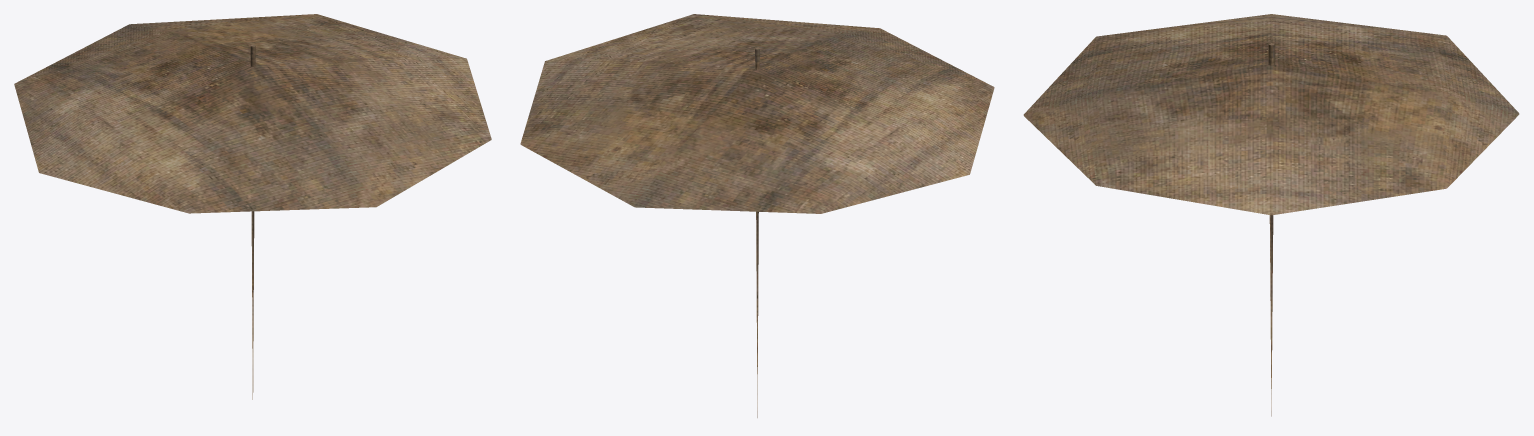
File: frn_tato_cafe_parasol_s01_l2.fbx
3 views of the same model, side by side, from view 1: azimuth 30°, elevation 25°; view 2: azimuth 150°, elevation 25°; view 3: azimuth 270°, elevation 25° (orthographic).
Parts seen in each view (by area): view 1: mesh_node; view 2: mesh_node; view 3: mesh_node.
Boxes of the visible parts, x1,y1,x2,y2 form: mesh_node: (14, 14, 491, 399); mesh_node: (520, 14, 994, 417); mesh_node: (1023, 14, 1519, 416).
Bounding box in the file's own units: 3.64 × 3.06 × 3.64.
